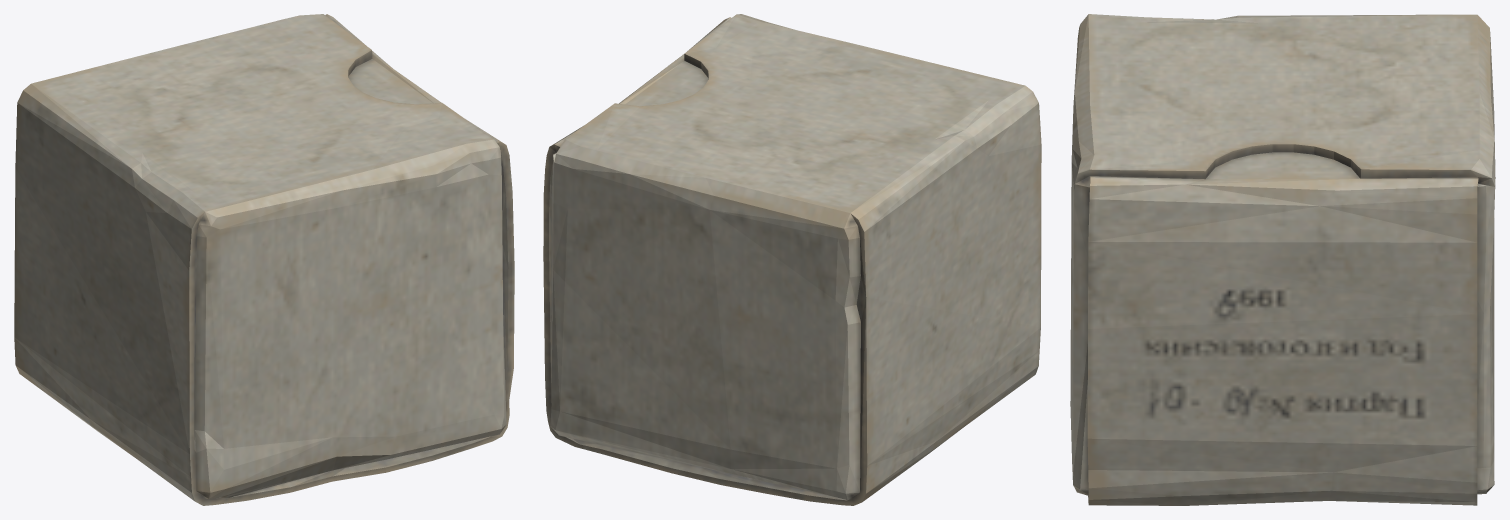
3 views of the same model, side by side, from view 1: azimuth 30°, elevation 25°; view 2: azimuth 150°, elevation 25°; view 3: azimuth 270°, elevation 25° (orthographic). The views are drawn at different scales.
Parts seen in each view (by area): view 1: TW_657025cfbfc87b3a34093253_PZ_Import; view 2: TW_657025cfbfc87b3a34093253_PZ_Import; view 3: TW_657025cfbfc87b3a34093253_PZ_Import.
Boxes of the visible parts, x1,y1,x2,y2 form: TW_657025cfbfc87b3a34093253_PZ_Import: (14, 14, 514, 505); TW_657025cfbfc87b3a34093253_PZ_Import: (543, 14, 1041, 505); TW_657025cfbfc87b3a34093253_PZ_Import: (1070, 14, 1495, 505).
Bounding box in the file's own units: 0.0361 × 0.0367 × 0.0326.
1 material, 1 textured.
